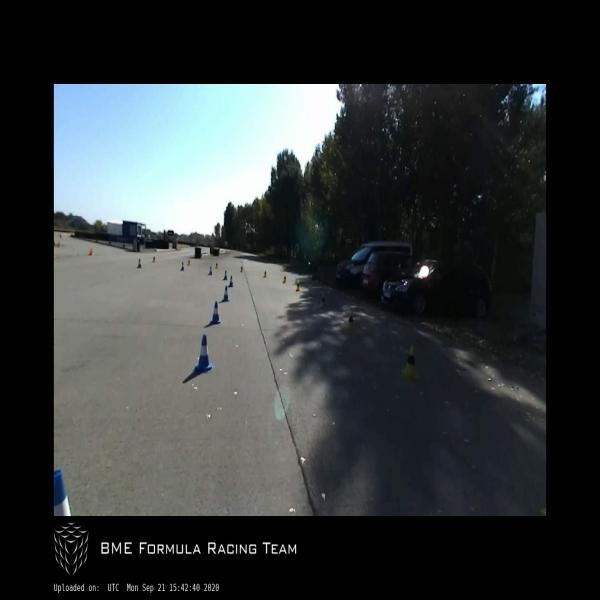blue_cone: (54, 470, 72, 516), (194, 334, 213, 372), (210, 301, 220, 324), (222, 286, 230, 302), (228, 276, 234, 287), (223, 271, 227, 280), (208, 266, 212, 275), (137, 259, 141, 268), (181, 262, 184, 271), (152, 257, 155, 262)
unknown_cone: (89, 248, 93, 256)
yellow_cone: (402, 347, 417, 379), (348, 313, 354, 330), (322, 294, 326, 307), (296, 282, 300, 292), (283, 276, 286, 283), (240, 266, 243, 272), (215, 263, 218, 269), (187, 260, 190, 266), (264, 271, 266, 278)
